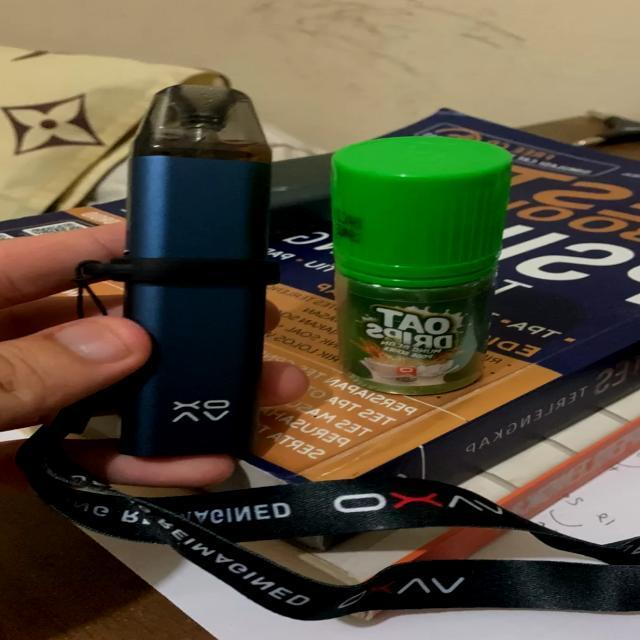Hazard: (110, 84, 278, 462)
